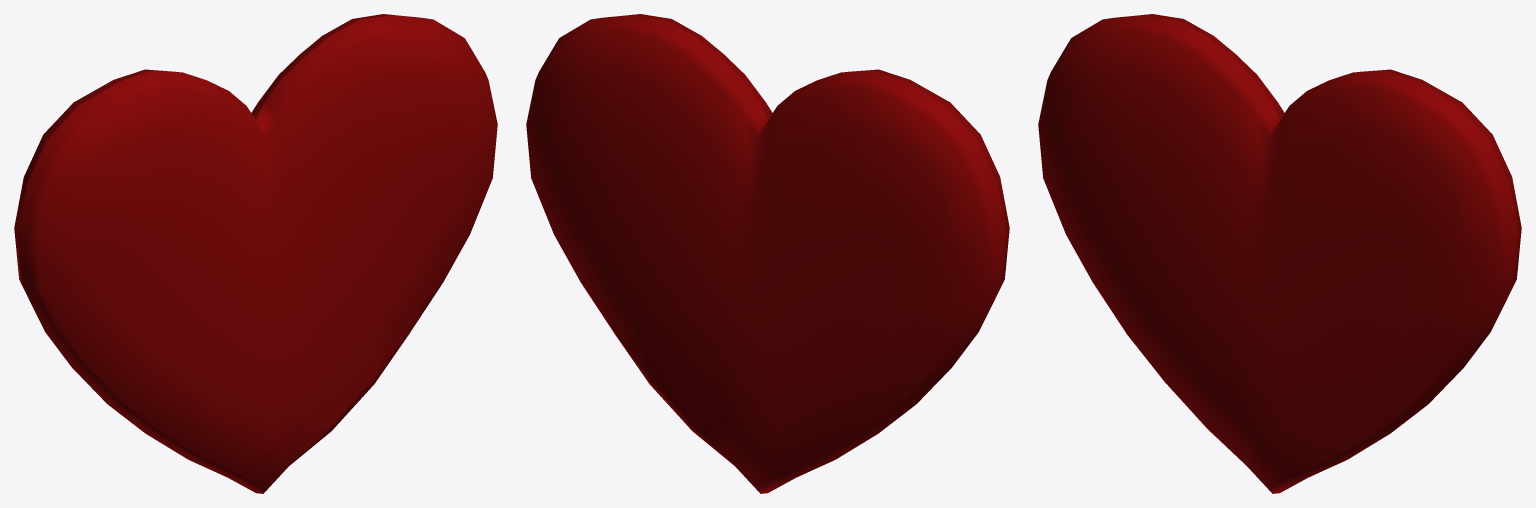
The model's file is heart.fbx.
3 views of the same model, side by side, from view 1: azimuth 30°, elevation 25°; view 2: azimuth 150°, elevation 25°; view 3: azimuth 330°, elevation 25° (orthographic).
Parts seen in each view (by area): view 1: heart002; view 2: heart002; view 3: heart002.
Boxes of the visible parts, bbox=[...] form: heart002: bbox=[14, 14, 497, 493]; heart002: bbox=[526, 14, 1009, 493]; heart002: bbox=[1038, 14, 1521, 493].
Bounding box in the file's own units: 0.7362 × 0.6601 × 0.1064.
